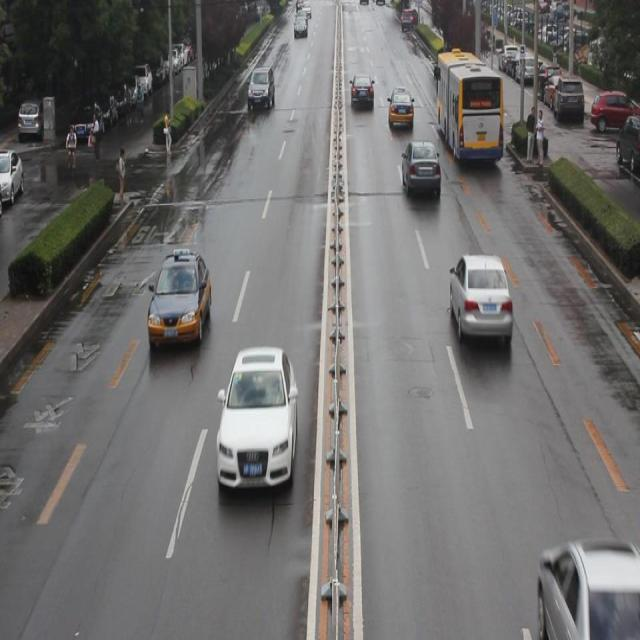car: (216, 343, 296, 497), (535, 537, 640, 633), (148, 251, 210, 350), (446, 253, 512, 344), (400, 141, 440, 202), (387, 87, 412, 129), (350, 75, 372, 111)
van: (436, 54, 502, 164)
